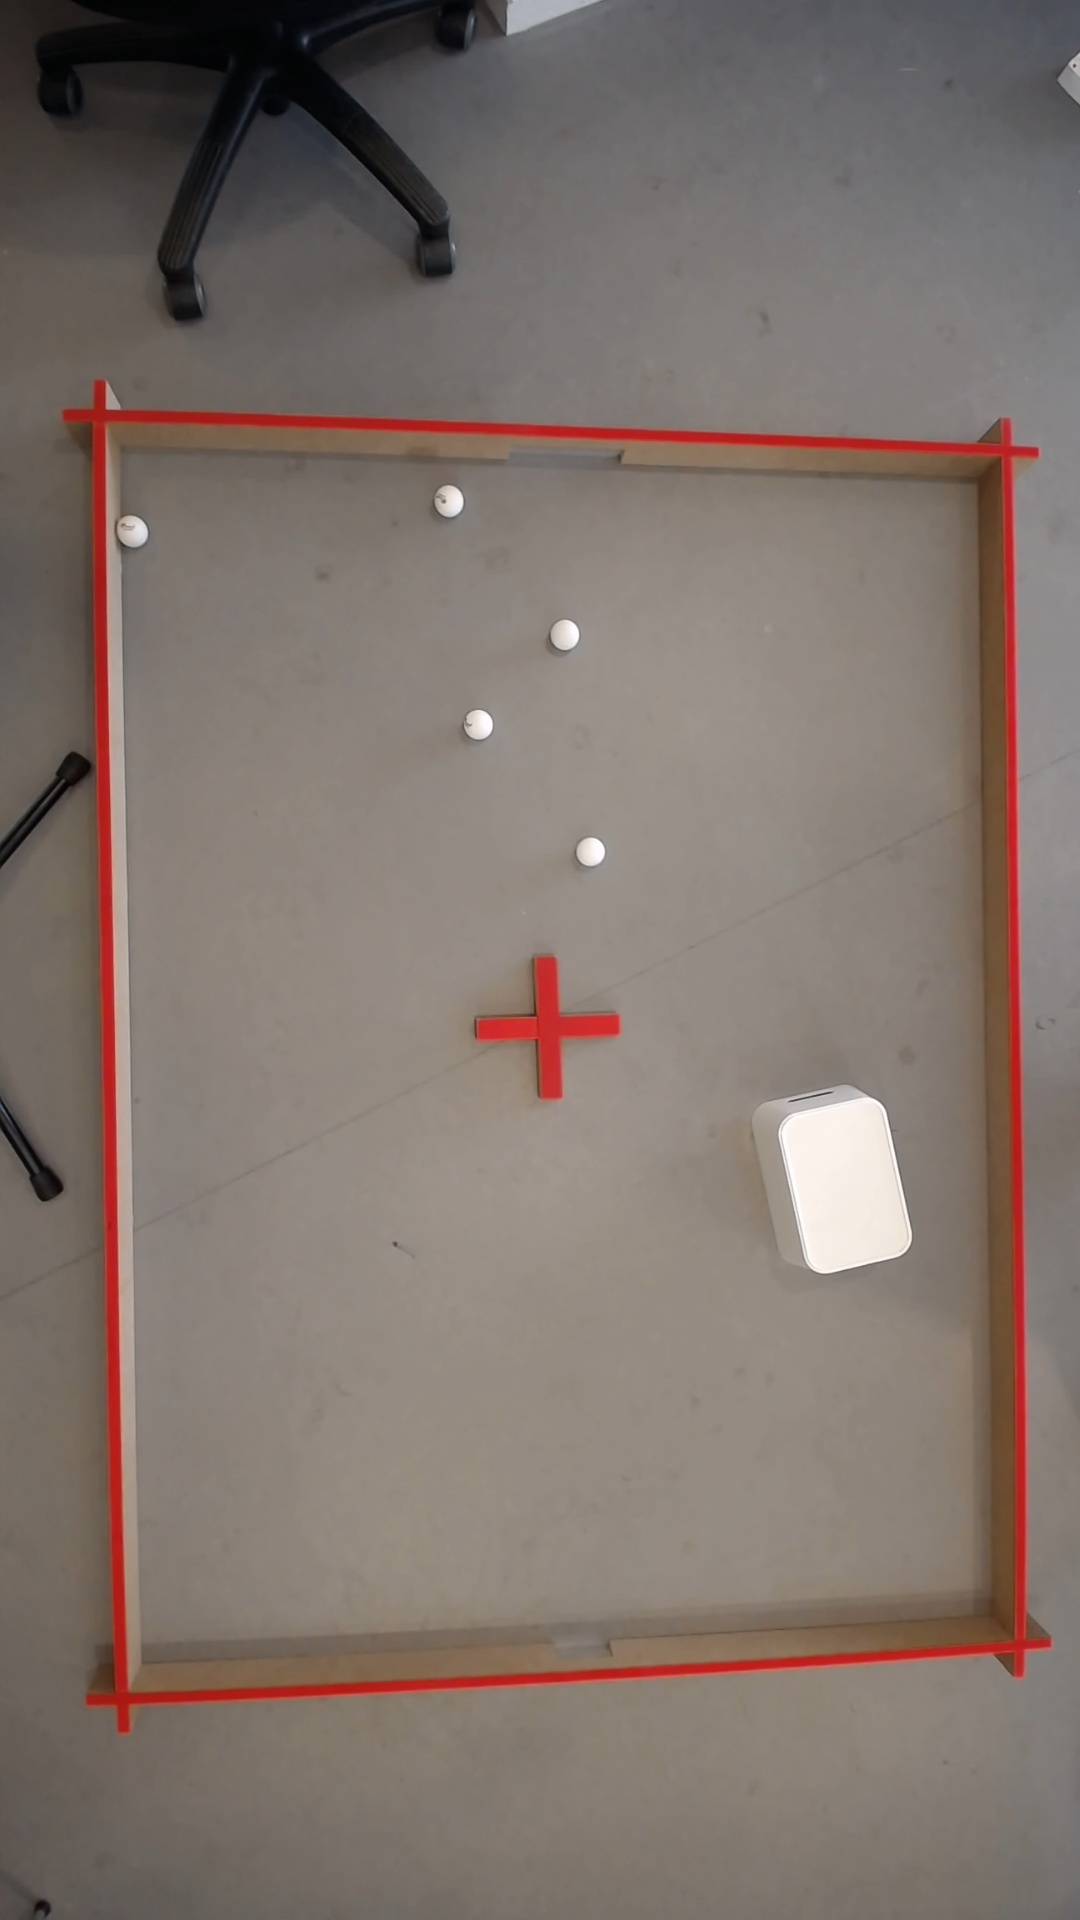balls: (549, 616, 584, 651), (462, 704, 496, 741), (440, 483, 464, 516), (579, 837, 605, 865)
car: (120, 514, 152, 546)
